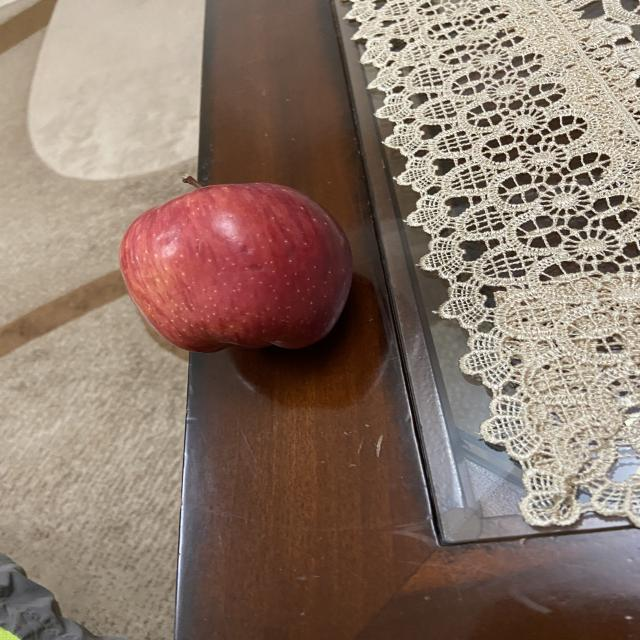apple: (117, 172, 358, 356)
